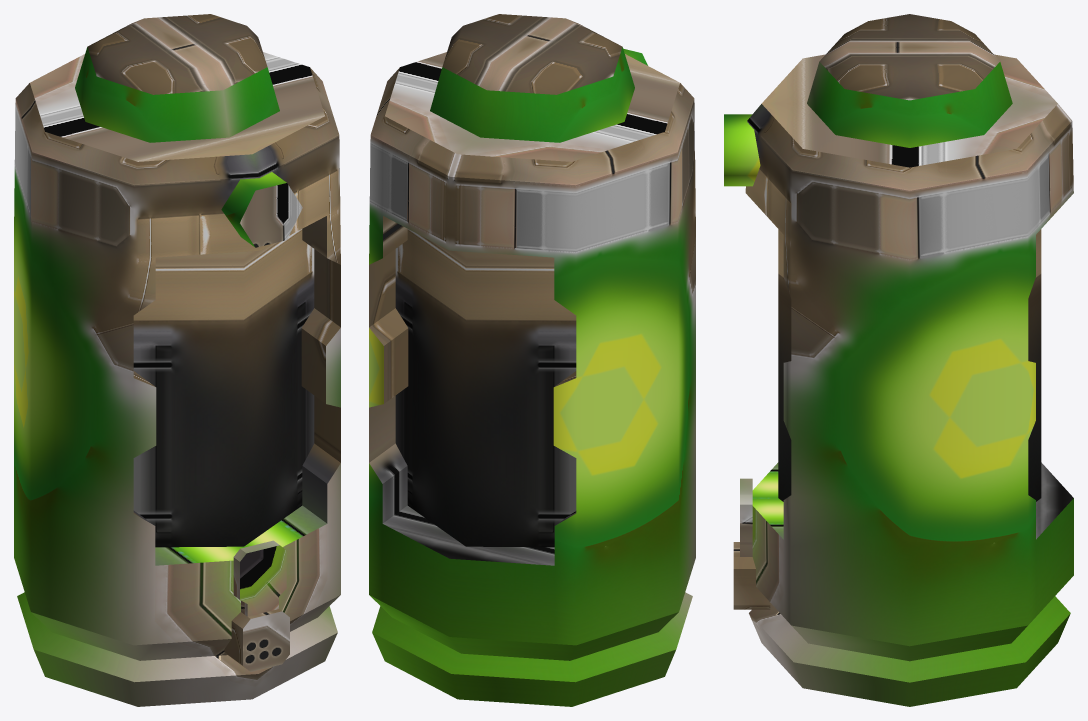
File: vk_t4_a5_gop3.fbx
3 renders of one model, left to right at view 1: azimuth 30°, elevation 25°; view 2: azimuth 150°, elevation 25°; view 3: azimuth 270°, elevation 25°, orthographic.
Visible parts, largest first — view 1: vk_t4_a5_gop3; view 2: vk_t4_a5_gop3; view 3: vk_t4_a5_gop3.
Boxes of the visible parts, bbox=[...] form: vk_t4_a5_gop3: bbox=[14, 14, 340, 706]; vk_t4_a5_gop3: bbox=[369, 14, 695, 706]; vk_t4_a5_gop3: bbox=[724, 14, 1073, 706].
Bounding box in the file's own units: 0.8252 × 1.62 × 0.8617.
